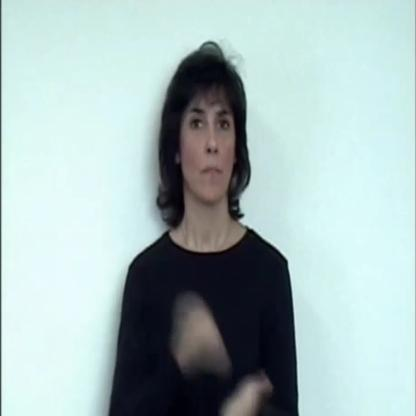Expensive: (158, 250, 277, 416)
